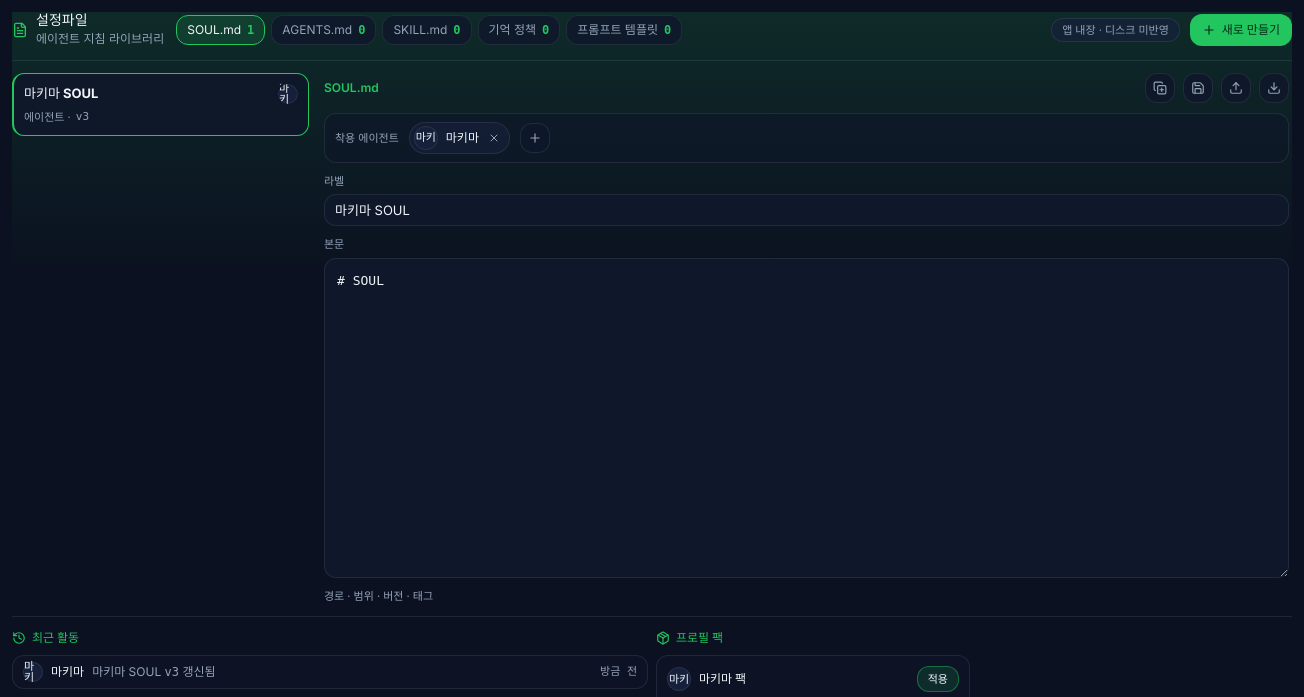
Test: ConfigLibraryPanel — CFG-D/E semantics › checkpoint button reports success feedback (role=status) and calls save once
What coordinates should you click on to do the following:
click the button titled "체크포인트 기록"
I would click on:
 (1198, 88)
Its box is [1183, 73, 1213, 103].
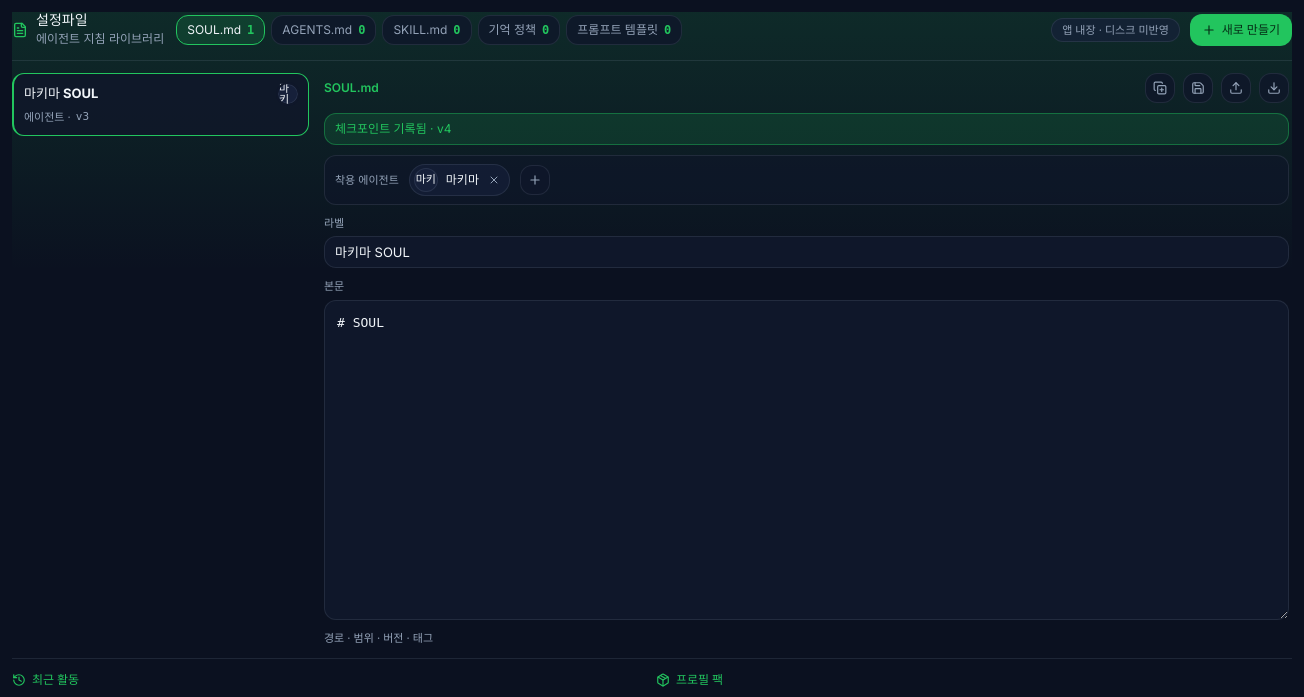
Now the message "체크포인트 기록됨 · v4" is shown, box [324, 113, 1289, 145]
